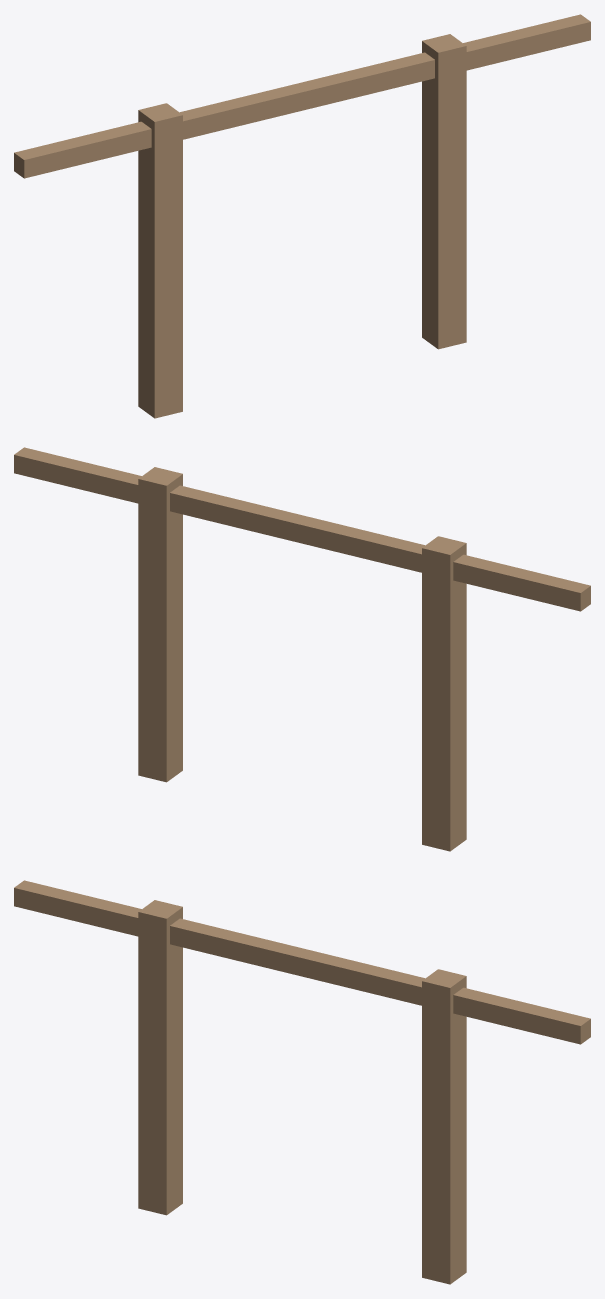
File: drying_rack.glb
The picture shows the model from 3 angles, top to bottom: view 1: azimuth 30°, elevation 25°; view 2: azimuth 150°, elevation 25°; view 3: azimuth 330°, elevation 25°; orthographic projection.
Parts seen in each view (by area): view 1: rackbar, rackpost2, rackpost1; view 2: rackbar, rackpost2, rackpost1; view 3: rackbar, rackpost1, rackpost2.
Part boxes in pixels (x1,y1,x2,y2): rackbar: [14, 14, 590, 178]; rackpost2: [422, 34, 466, 349]; rackpost1: [138, 103, 182, 418]; rackbar: [14, 447, 590, 611]; rackpost2: [138, 467, 182, 782]; rackpost1: [422, 536, 466, 851]; rackbar: [14, 880, 590, 1044]; rackpost1: [138, 900, 182, 1215]; rackpost2: [422, 969, 466, 1284].
Bounding box in the file's own units: 3.2 × 1.6 × 0.1602.
